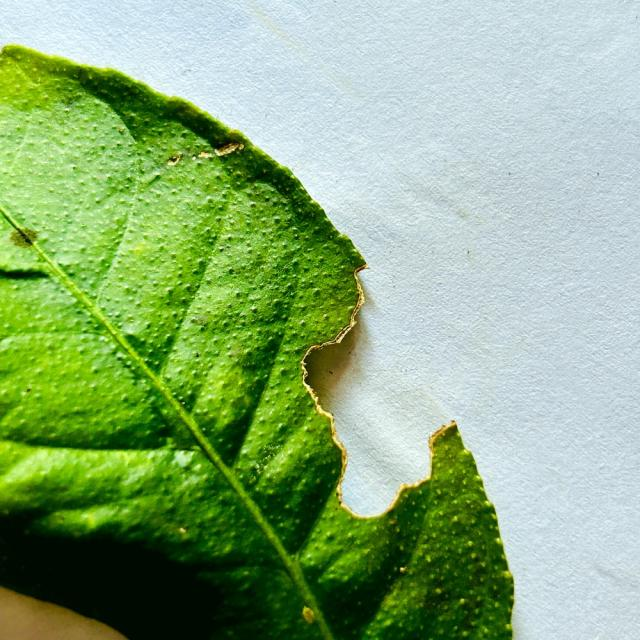Deficiency Leaf: (303, 266, 445, 516)
Lemon: (0, 45, 514, 639)
